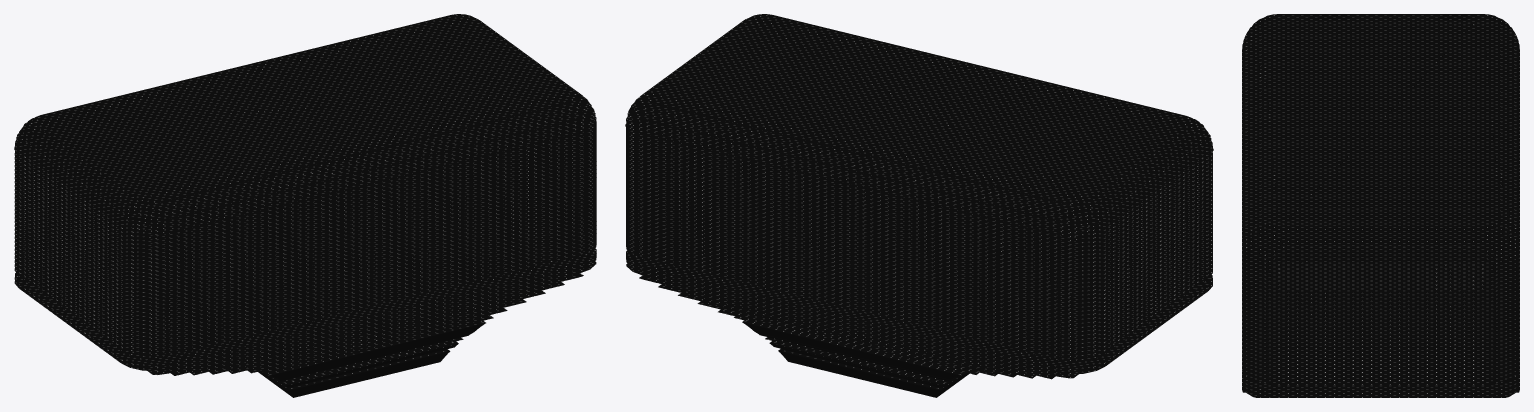
File: edificiocentral_OLD.glb
3 views of the same model, side by side, from view 1: azimuth 30°, elevation 25°; view 2: azimuth 150°, elevation 25°; view 3: azimuth 270°, elevation 25° (orthographic).
Visible parts, largest first — view 1: pasted__Object_20; view 2: pasted__Object_20; view 3: pasted__Object_20.
Boxes of the visible parts, x1,y1,x2,y2 form: pasted__Object_20: (14,14,596,397); pasted__Object_20: (625,14,1213,397); pasted__Object_20: (1242,14,1519,397).
Size of what is drawn, in the model's own units: 65.68 by 31.38 by 33.46.
5 materials, 2 textured.
